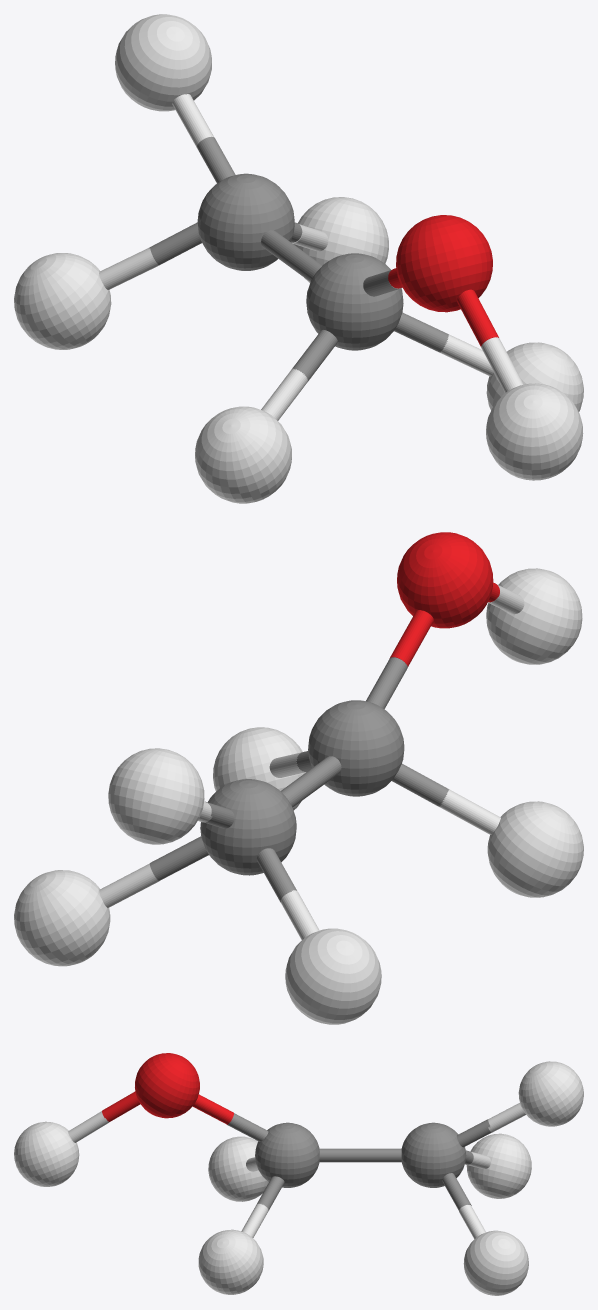
Rendered from ethanol.fbx.
The picture shows the model from 3 angles, top to bottom: view 1: azimuth 30°, elevation 25°; view 2: azimuth 150°, elevation 25°; view 3: azimuth 270°, elevation 25°; orthographic projection. The views are drawn at different scales.
Parts seen in each view (by area): view 1: Sphere.000, Sphere.001, Sphere.003, Sphere.006, Sphere.010, Sphere.007, Sphere.009, Sphere.002, Sphere.005, Cylinder.010, Cylinder.009, Cylinder.001 (+8 smaller); view 2: Sphere.003, Sphere.006, Sphere.001, Sphere.002, Sphere.010, Sphere.009, Sphere.000, Sphere.007, Sphere.005, Cylinder.014, Cylinder.006, Cylinder.008 (+6 smaller); view 3: Sphere.006, Sphere.010, Sphere.005, Sphere.002, Sphere.000, Sphere.009, Sphere.007, Sphere.003, Sphere.001, Cylinder.002, Cylinder, Cylinder.017 (+9 smaller).
Part boxes in pixels (left/top/right/bottom): Sphere.000: left=486, top=383, right=583, bottom=480; Sphere.001: left=195, top=406, right=291, bottom=503; Sphere.003: left=14, top=253, right=111, bottom=349; Sphere.006: left=115, top=14, right=211, bottom=111; Sphere.010: left=396, top=215, right=492, bottom=312; Sphere.007: left=197, top=173, right=294, bottom=270; Sphere.009: left=306, top=253, right=403, bottom=350; Sphere.002: left=293, top=197, right=388, bottom=282; Sphere.005: left=486, top=342, right=583, bottom=411; Cylinder.010: left=99, top=247, right=159, bottom=289; Cylinder.009: left=481, top=337, right=523, bottom=392; Cylinder.001: left=457, top=289, right=498, bottom=346; Sphere.003: left=285, top=928, right=381, bottom=1024; Sphere.006: left=108, top=748, right=204, bottom=844; Sphere.001: left=487, top=801, right=583, bottom=897; Sphere.002: left=14, top=870, right=110, bottom=966; Sphere.010: left=397, top=532, right=493, bottom=628; Sphere.009: left=308, top=700, right=404, bottom=796; Sphere.000: left=486, top=568, right=582, bottom=664; Sphere.007: left=200, top=779, right=296, bottom=875; Sphere.005: left=213, top=727, right=305, bottom=810; Cylinder.014: left=439, top=789, right=500, bottom=834; Cylinder.006: left=149, top=836, right=208, bottom=880; Cylinder.008: left=99, top=863, right=159, bottom=907; Sphere.006: left=518, top=1061, right=583, bottom=1126; Sphere.010: left=135, top=1053, right=199, bottom=1118; Sphere.005: left=198, top=1229, right=263, bottom=1294; Sphere.002: left=463, top=1230, right=528, bottom=1295; Sphere.000: left=14, top=1121, right=79, bottom=1186; Sphere.009: left=255, top=1122, right=319, bottom=1187; Sphere.007: left=401, top=1122, right=466, bottom=1187; Sphere.003: left=466, top=1133, right=531, bottom=1198; Sphere.001: left=208, top=1136, right=268, bottom=1201; Cylinder.002: left=319, top=1148, right=360, bottom=1162; Cylinder: left=360, top=1148, right=401, bottom=1162; Cylinder.017: left=192, top=1094, right=233, bottom=1124.
Bounding box in the file's own units: 66.86 × 48.82 × 132.
